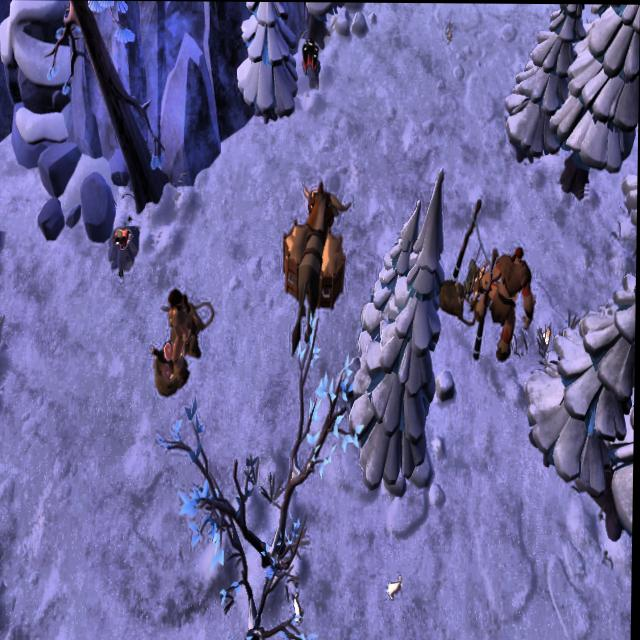enemy_factionKeeper: (477, 240, 536, 362), (159, 287, 205, 372)
ore_t5: (299, 38, 321, 70)
